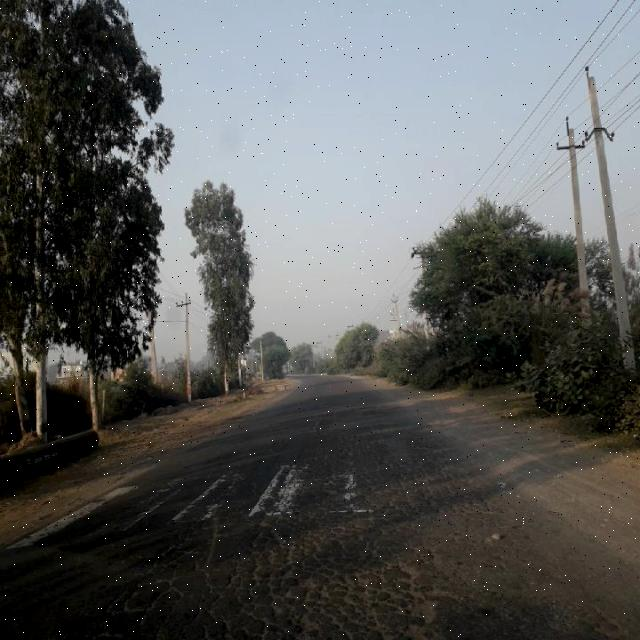D20: (93, 467, 528, 639)
D43: (2, 459, 450, 562)
